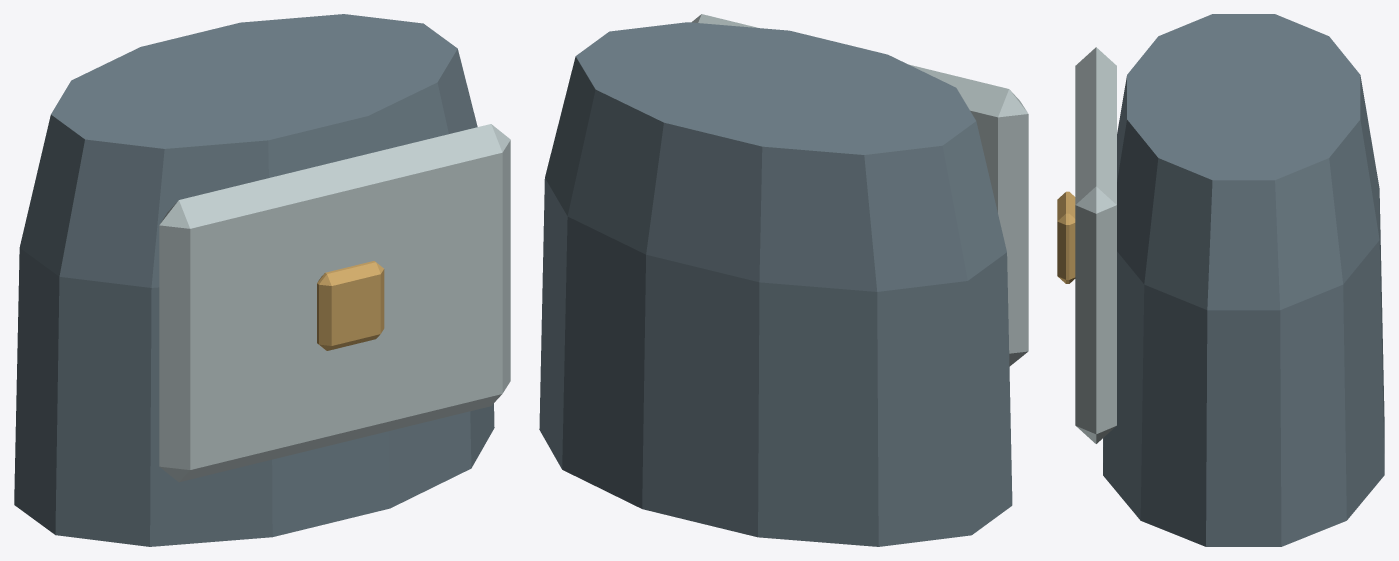
The model's file is iron_cuirass.glb.
3 views of the same model, side by side, from view 1: azimuth 30°, elevation 25°; view 2: azimuth 150°, elevation 25°; view 3: azimuth 270°, elevation 25° (orthographic). The views are drawn at different scales.
Parts seen in each view (by area): view 1: Gear_Body_Cuirass__Shell, Gear_Body_Cuirass__Plate, Gear_Body_Cuirass__Badge; view 2: Gear_Body_Cuirass__Shell, Gear_Body_Cuirass__Plate; view 3: Gear_Body_Cuirass__Shell, Gear_Body_Cuirass__Plate, Gear_Body_Cuirass__Badge.
Boxes of the visible parts, left/top/right/bottom form: Gear_Body_Cuirass__Shell: left=14, top=14, right=494, bottom=546; Gear_Body_Cuirass__Plate: left=159, top=124, right=510, bottom=482; Gear_Body_Cuirass__Badge: left=317, top=261, right=384, bottom=350; Gear_Body_Cuirass__Shell: left=539, top=22, right=1012, bottom=546; Gear_Body_Cuirass__Plate: left=691, top=14, right=1028, bottom=366; Gear_Body_Cuirass__Shell: left=1103, top=14, right=1384, bottom=546; Gear_Body_Cuirass__Plate: left=1075, top=47, right=1116, bottom=443; Gear_Body_Cuirass__Badge: left=1057, top=191, right=1075, bottom=283.
Size of the model in its own units: 0.5371 by 0.45 by 0.3792.
